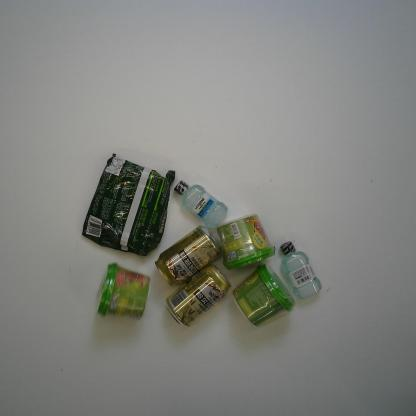Alcohol: (165, 264, 232, 328), (154, 225, 222, 287)
Instant Drink: (231, 259, 298, 330), (216, 212, 276, 271), (95, 262, 151, 320)
Instant Noodles: (80, 152, 176, 257)
Personal Hygiene: (173, 180, 229, 230), (278, 240, 322, 300)
